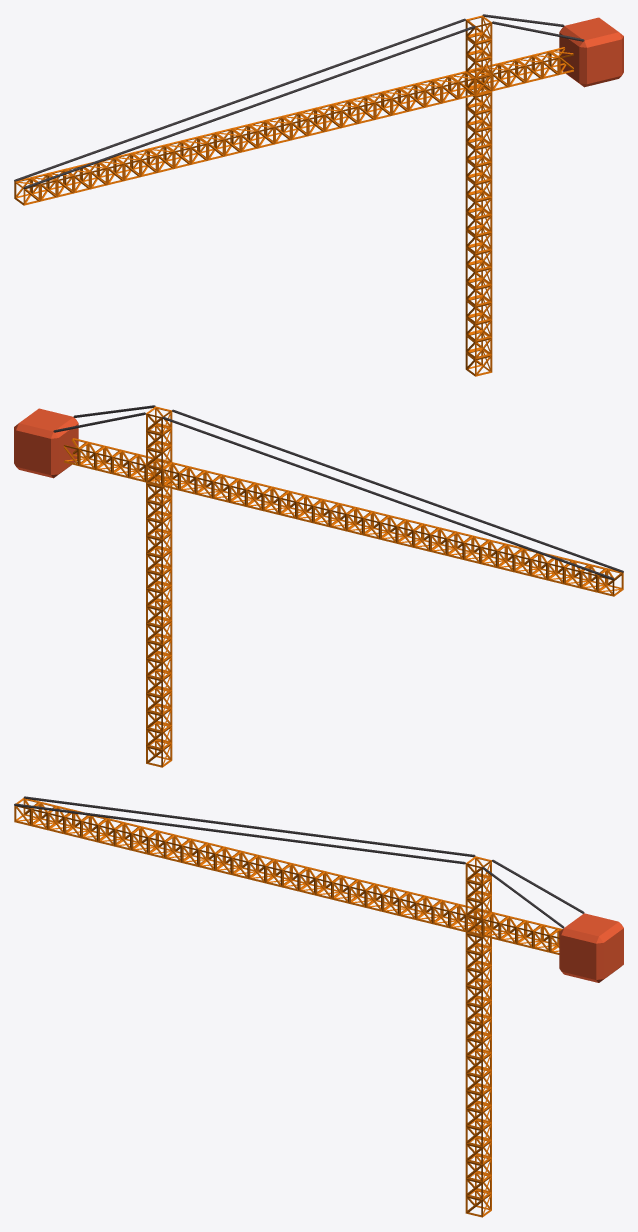
Rendered from Crane.fbx.
3 renders of one model, top to bottom at view 1: azimuth 30°, elevation 25°; view 2: azimuth 150°, elevation 25°; view 3: azimuth 330°, elevation 25°, orthographic.
Parts seen in each view (by area): view 1: Crane; view 2: Crane; view 3: Crane.
Boxes of the visible parts, x1,y1,x2,y2 form: Crane: (14, 14, 623, 376); Crane: (14, 405, 623, 767); Crane: (14, 796, 623, 1217).
Bounding box in the file's own units: 7667 × 4326 × 575.
